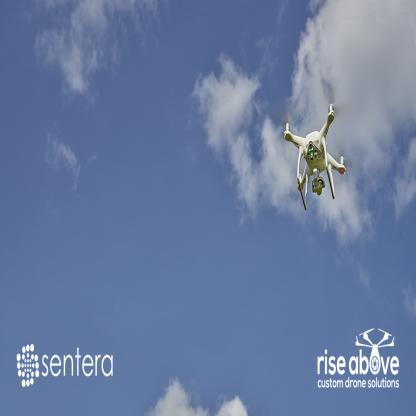drone: (281, 102, 351, 200)
